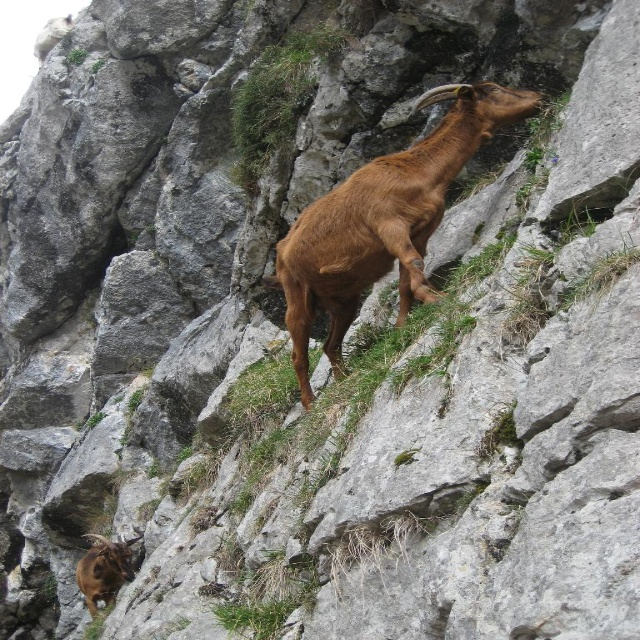Goat: (260, 79, 548, 415)
